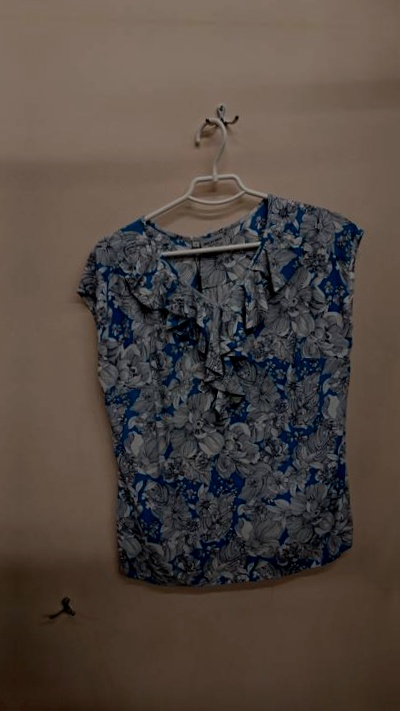Blouse: (65, 167, 390, 605)
